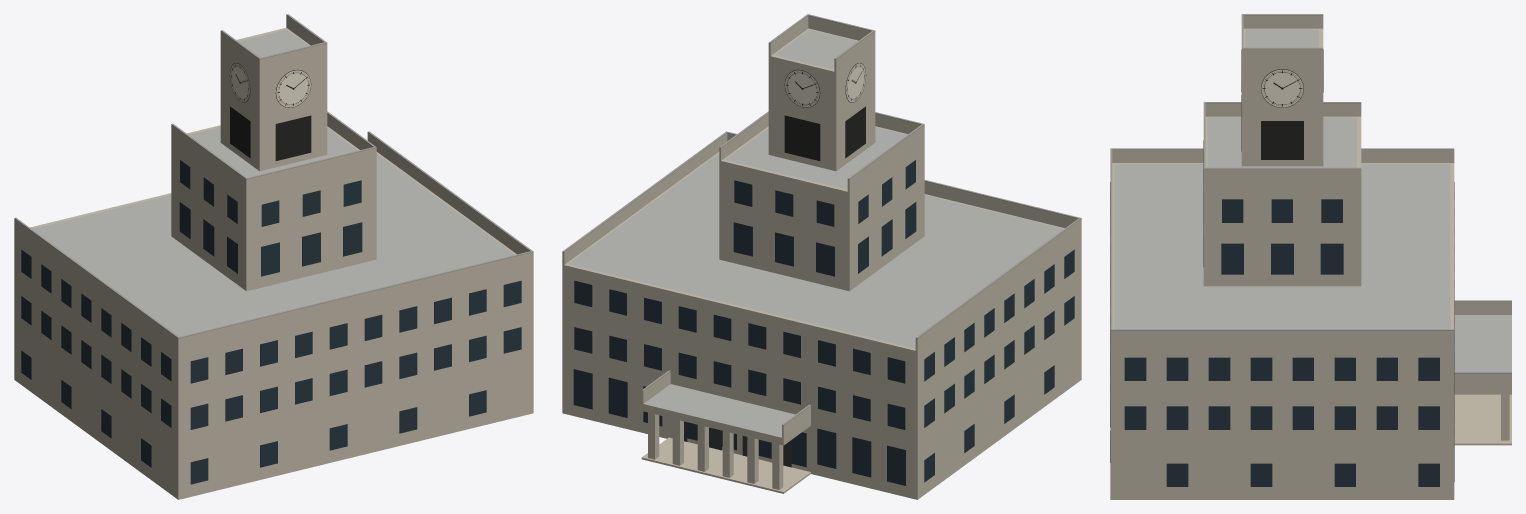
File: city_hall_tw1_quest.glb
3 renders of one model, left to right at view 1: azimuth 30°, elevation 25°; view 2: azimuth 150°, elevation 25°; view 3: azimuth 270°, elevation 25°, orthographic. The views are drawn at different scales.
Parts seen in each view (by area): view 1: city_hall_tw1_quest-col; view 2: city_hall_tw1_quest-col; view 3: city_hall_tw1_quest-col.
Part boxes in pixels (box(x1,y1,x2,y2)): city_hall_tw1_quest-col: box(14, 14, 533, 499); city_hall_tw1_quest-col: box(562, 14, 1081, 499); city_hall_tw1_quest-col: box(1110, 14, 1511, 499).
Size of the model in its own units: 30.02 by 29.07 by 28.01.
Materials: 8 (1 with a texture image).
